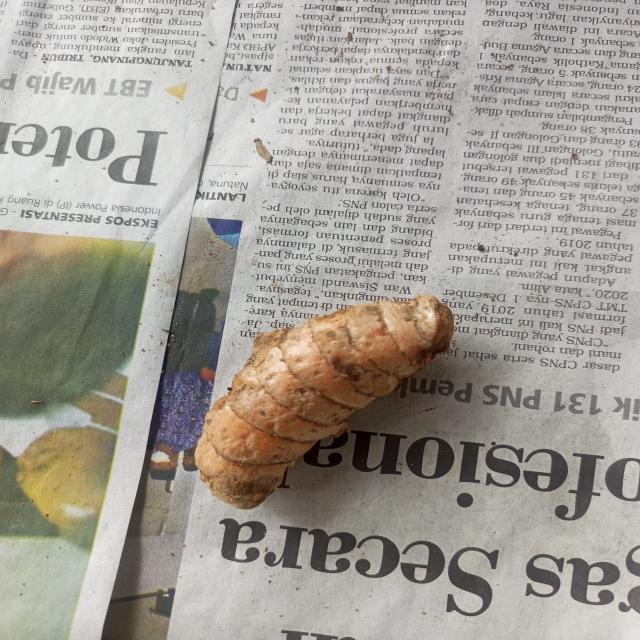ginger: (205, 297, 454, 485)
